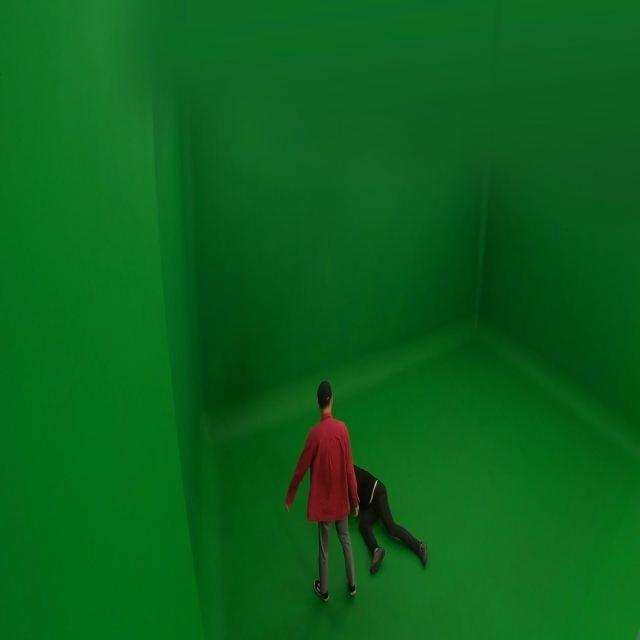fight: (283, 378, 433, 606)
